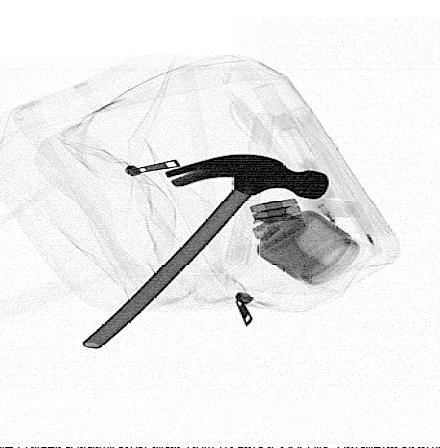Hammer: (82, 153, 332, 348)
